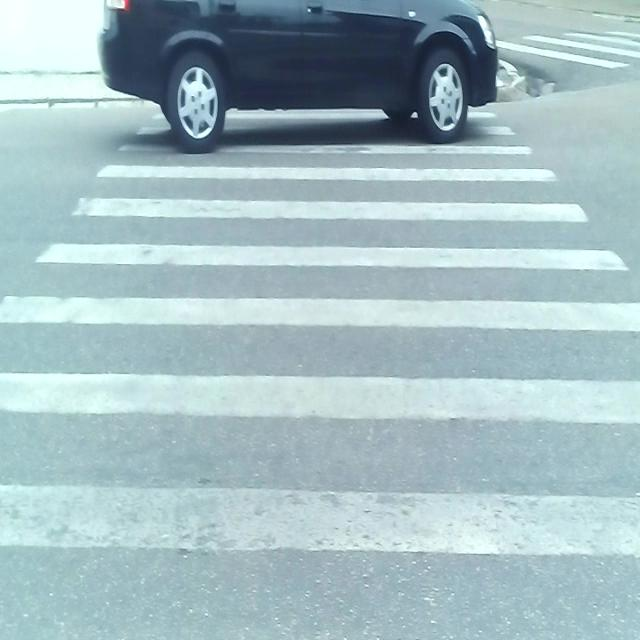crosswalk: (0, 103, 640, 640)
